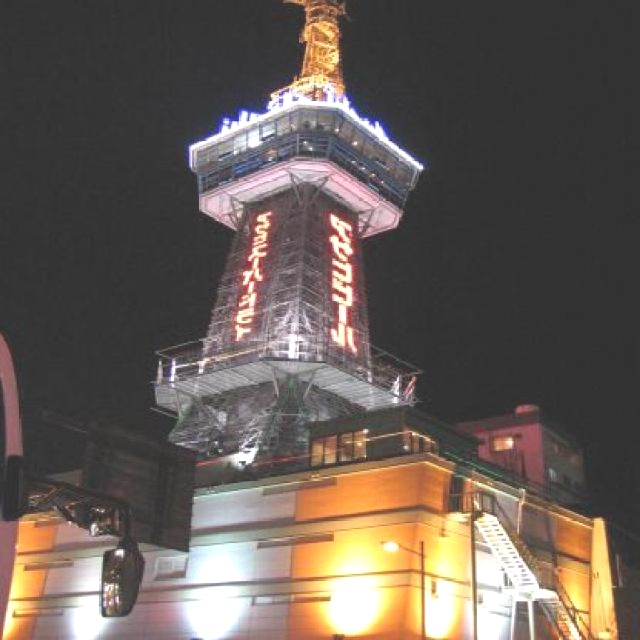stair: (469, 507, 586, 640)
